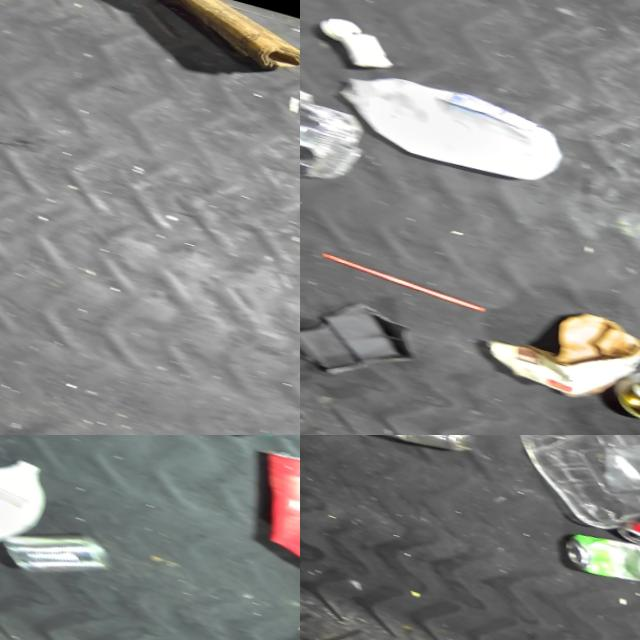can: (0, 509, 109, 592), (550, 522, 640, 592), (353, 435, 477, 460), (601, 360, 640, 431), (606, 490, 640, 567)
milk_jug: (322, 58, 569, 192)
non_white_jug: (239, 439, 300, 602)
